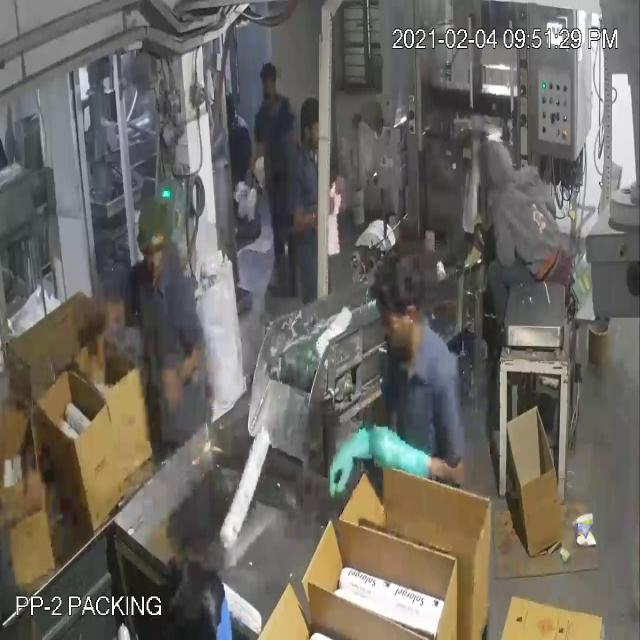gloves: (320, 397, 380, 520), (365, 403, 433, 493)
no-gloves: (5, 446, 51, 564), (85, 290, 139, 378), (153, 336, 207, 418), (289, 192, 331, 244)
